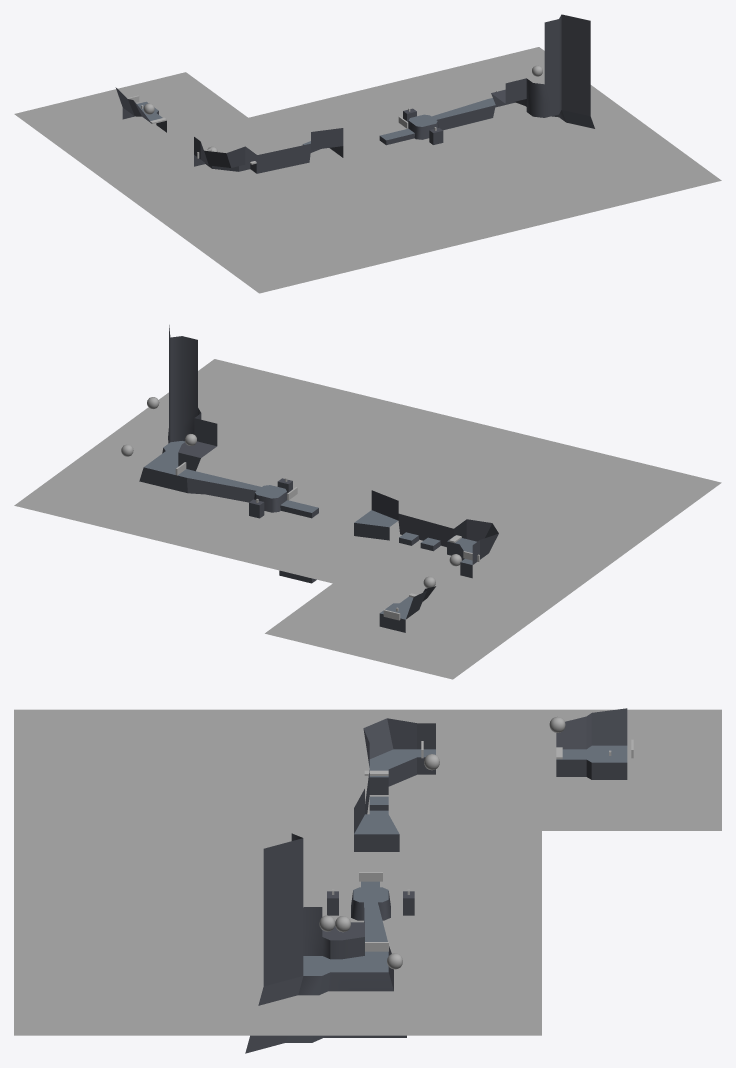
File: Salas Tutorial.fbx
3 renders of one model, top to bottom at view 1: azimuth 30°, elevation 25°; view 2: azimuth 150°, elevation 25°; view 3: azimuth 270°, elevation 25°, orthographic. The views are drawn at different scales.
Visible parts, largest first — view 1: Fondo, WASD_Room, Rest_Room, PlayableArea, Entry, pCube10; view 2: Fondo, WASD_Room, Rest_Room, PlayableArea, Entry, pCube10, Exit_Room; view 3: Fondo, WASD_Room, pCube10, Rest_Room, Entry, PlayableArea.
Part boxes in pixels (x1,y1,x2,y2): Fondo: [14, 47, 721, 293]; WASD_Room: [488, 14, 594, 128]; Rest_Room: [194, 137, 310, 173]; PlayableArea: [408, 99, 495, 139]; Entry: [302, 128, 343, 157]; pCube10: [115, 87, 166, 132]; Fondo: [14, 359, 721, 679]; WASD_Room: [139, 325, 217, 493]; Rest_Room: [398, 513, 498, 578]; PlayableArea: [187, 471, 287, 512]; Entry: [354, 490, 398, 540]; pCube10: [379, 586, 435, 632]; Exit_Room: [279, 500, 318, 583]; Fondo: [14, 709, 721, 1035]; WASD_Room: [245, 833, 406, 1053]; pCube10: [556, 708, 627, 779]; Rest_Room: [363, 718, 435, 814]; Entry: [354, 789, 399, 851]; PlayableArea: [351, 887, 390, 941].
Bounding box in the file's own units: 326 × 112 × 299.
